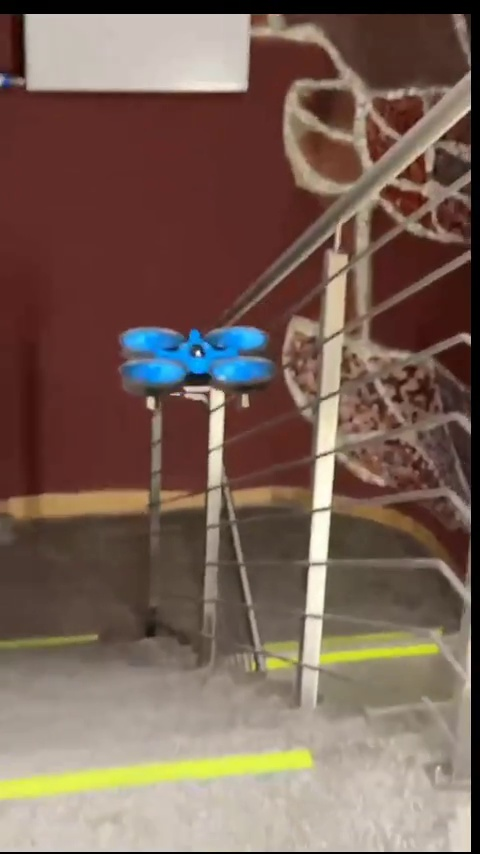drone: (117, 326, 277, 416)
